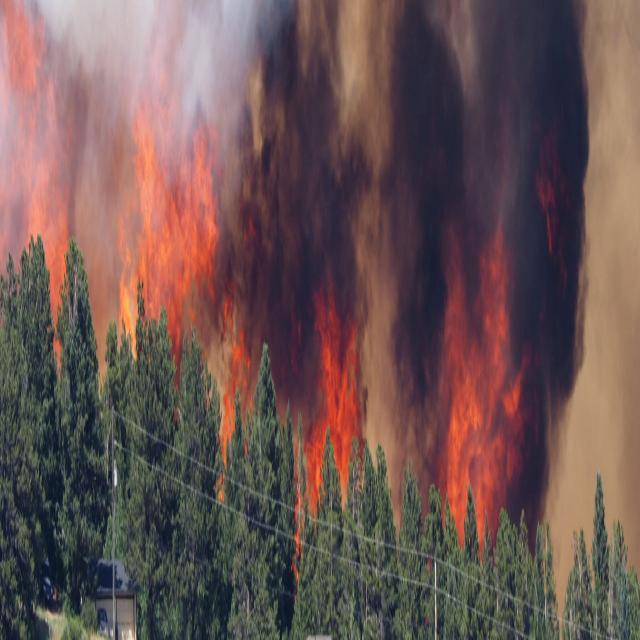Fire: (0, 10, 76, 347), (126, 104, 213, 372), (298, 316, 362, 565), (448, 264, 498, 554), (222, 311, 250, 489)
Smoke: (233, 17, 494, 410), (466, 0, 640, 566), (3, 13, 234, 400), (223, 0, 397, 413), (341, 0, 420, 582)
